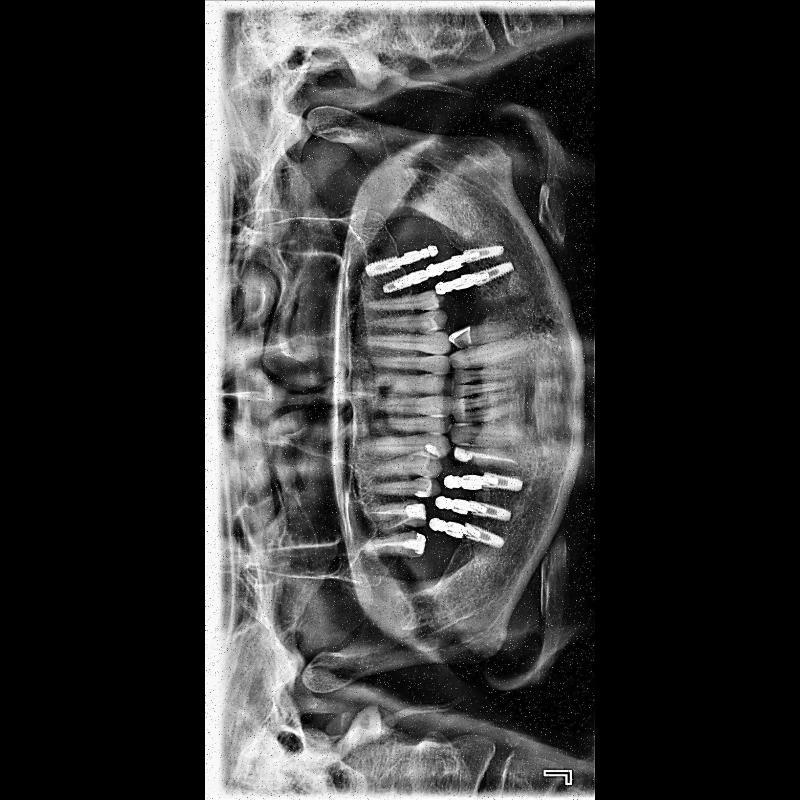osstem: (360, 250, 404, 282), (474, 261, 514, 291), (462, 241, 504, 269), (463, 524, 509, 548), (382, 262, 414, 296), (468, 502, 514, 522), (482, 473, 524, 493)
